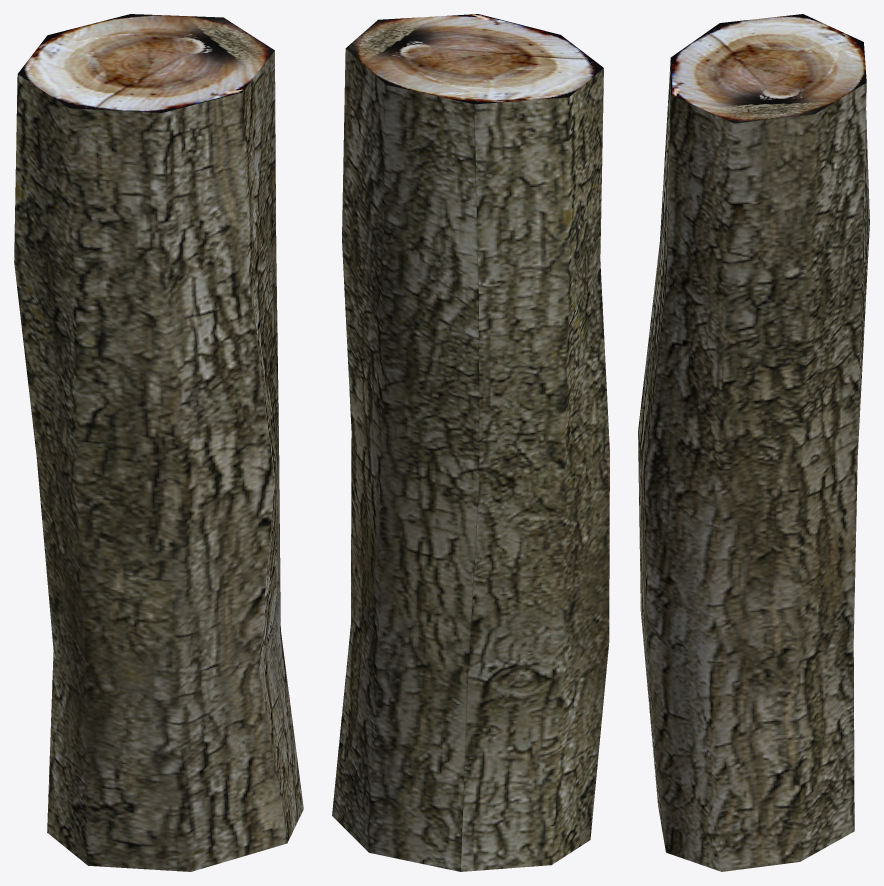
The model's file is trunk1.obj.
The picture shows the model from 3 angles, left to right: view 1: azimuth 30°, elevation 25°; view 2: azimuth 150°, elevation 25°; view 3: azimuth 270°, elevation 25°; orthographic projection. The views are drawn at different scales.
Parts seen in each view (by area): view 1: Logs; view 2: Logs; view 3: Logs.
Part boxes in pixels (x1,y1,x2,y2): Logs: (14,14,303,871); Logs: (332,14,609,871); Logs: (638,14,869,871).
Size of the model in its own units: 3.24 by 9.69 by 2.73.
Materials: 1 (1 with a texture image).
